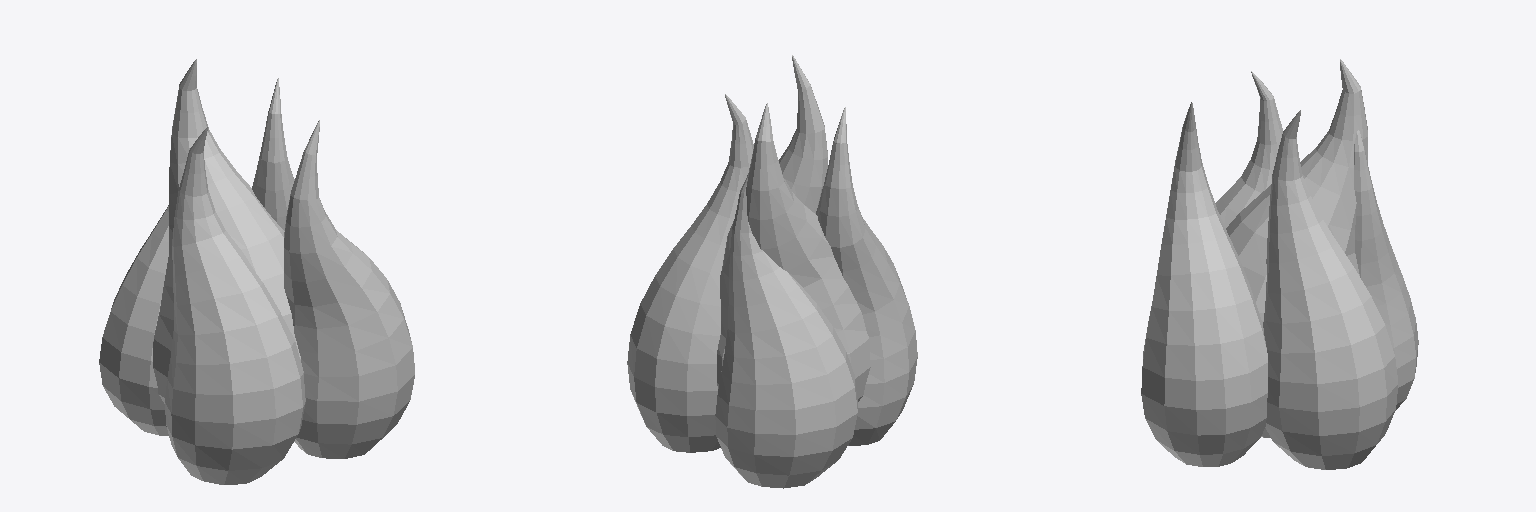
The model's file is fire_000001.obj.
3 views of the same model, side by side, from view 1: azimuth 30°, elevation 25°; view 2: azimuth 150°, elevation 25°; view 3: azimuth 270°, elevation 25° (orthographic).
Parts seen in each view (by area): view 1: flame_NurbsPath.015; view 2: flame_NurbsPath.015; view 3: flame_NurbsPath.015.
Boxes of the visible parts, x1=… form: flame_NurbsPath.015: x1=99, y1=59, x2=414, y2=484; flame_NurbsPath.015: x1=627, y1=55, x2=917, y2=488; flame_NurbsPath.015: x1=1141, y1=59, x2=1418, y2=469.
Bounding box in the file's own units: 0.7552 × 1.16 × 0.7988.